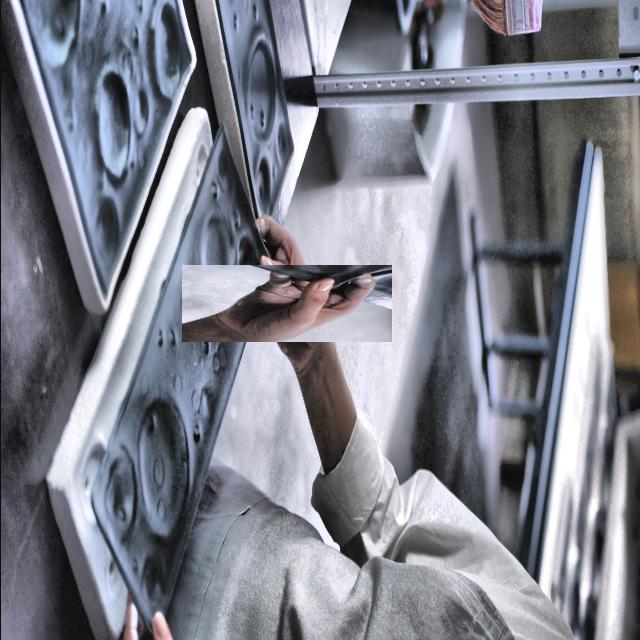not-gloved: (214, 231, 358, 375), (80, 512, 207, 640)
